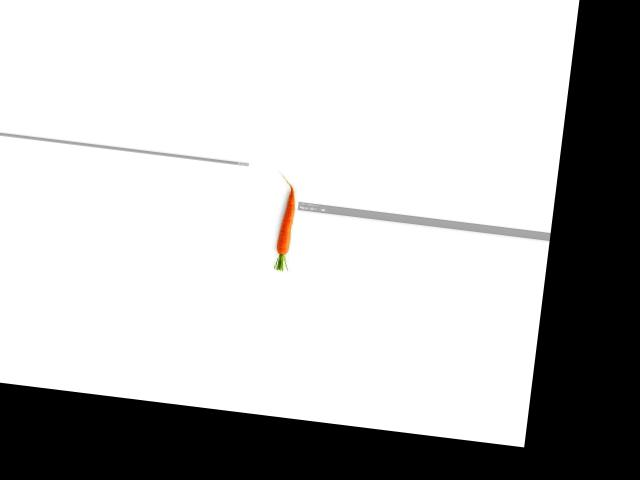carrot: (272, 198, 299, 261)
